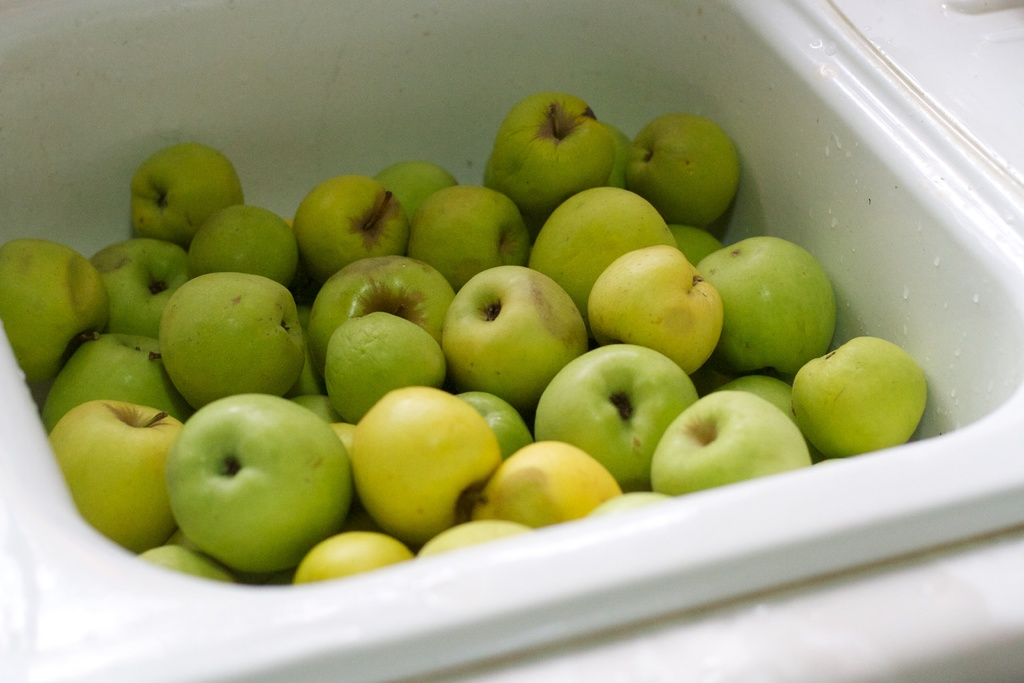Apple: (0, 89, 933, 586), (156, 388, 355, 579)
